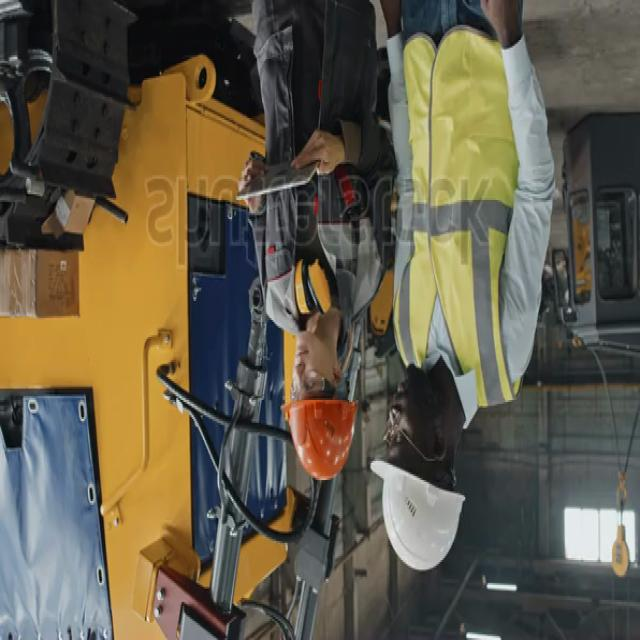Ear-Protection: (292, 247, 333, 334)
Glasses: (375, 410, 423, 456), (286, 369, 334, 401)
Helmet: (370, 456, 468, 572), (285, 396, 363, 484)
Vest: (398, 1, 526, 408)
